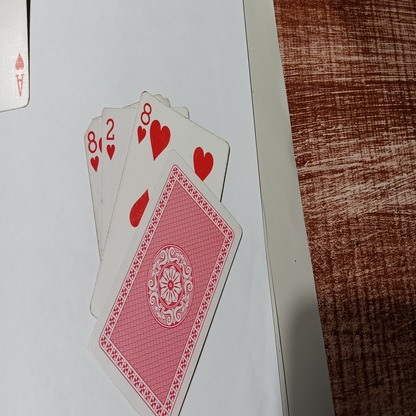2h: (107, 116, 117, 160)
8h: (85, 129, 102, 169), (135, 98, 149, 144)
Ah: (13, 51, 30, 98)
